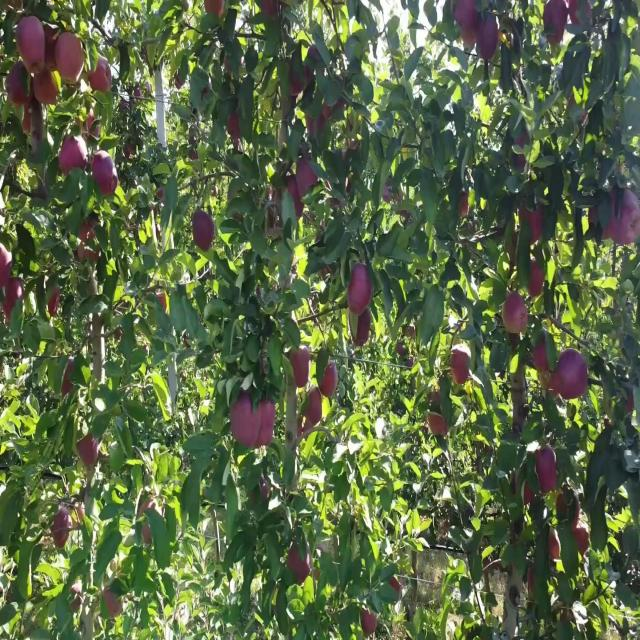apple: (560, 348, 590, 402), (16, 21, 45, 71), (452, 0, 480, 50), (56, 35, 84, 84), (232, 398, 259, 448), (348, 263, 373, 315), (92, 156, 120, 199), (476, 14, 500, 64), (536, 447, 560, 496), (544, 0, 568, 48), (504, 291, 529, 336), (620, 191, 640, 247), (60, 135, 87, 176), (8, 63, 32, 108), (76, 220, 100, 263), (192, 213, 216, 254), (520, 206, 544, 245), (88, 56, 112, 94), (460, 7, 481, 50), (76, 433, 100, 469), (36, 71, 60, 107), (288, 547, 312, 583), (96, 163, 120, 199), (292, 348, 312, 391), (4, 277, 24, 320), (284, 177, 304, 220), (256, 405, 276, 448), (292, 63, 315, 98), (140, 504, 159, 546), (456, 1, 480, 34), (532, 341, 551, 382), (52, 511, 73, 548), (308, 106, 332, 137), (320, 362, 340, 398), (452, 348, 472, 384), (304, 391, 324, 427), (604, 199, 619, 242), (528, 263, 545, 299), (516, 476, 535, 507), (300, 163, 319, 194), (356, 312, 372, 348), (104, 590, 123, 619), (428, 412, 448, 439), (568, 1, 588, 28), (260, 398, 276, 430), (0, 248, 12, 288), (316, 106, 332, 135), (576, 526, 591, 556), (44, 28, 59, 57), (252, 483, 269, 507), (552, 369, 566, 398), (204, 0, 224, 20), (556, 483, 568, 516), (516, 135, 527, 171), (364, 611, 379, 636), (64, 362, 74, 398), (48, 291, 61, 318), (548, 533, 560, 562), (24, 106, 36, 135), (264, 0, 281, 20), (388, 575, 403, 597), (72, 583, 83, 613), (260, 426, 275, 448), (604, 220, 619, 242), (88, 113, 100, 140), (516, 135, 527, 164), (624, 391, 636, 416), (228, 113, 240, 137), (528, 568, 536, 596), (460, 199, 469, 219), (161, 291, 168, 313), (300, 419, 307, 437)
